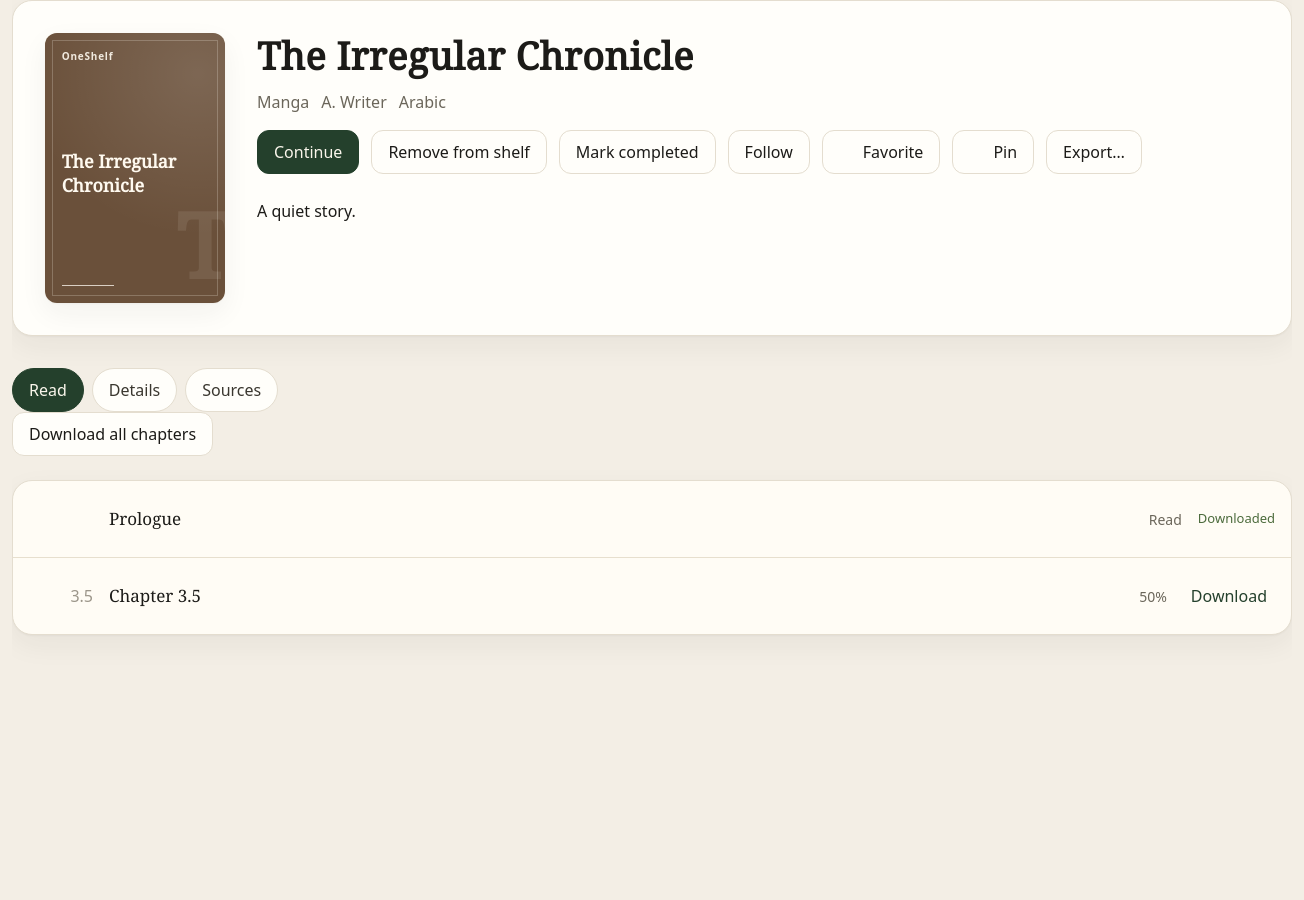
it: Work Details › keeps the bulk request state when switching tabs
The width and height of the screenshot is (1304, 900).
What coordinates should you click on to do the following:
click the button "Download all chapters"
I would click on:
 (113, 434)
Its box is [12, 412, 213, 456].
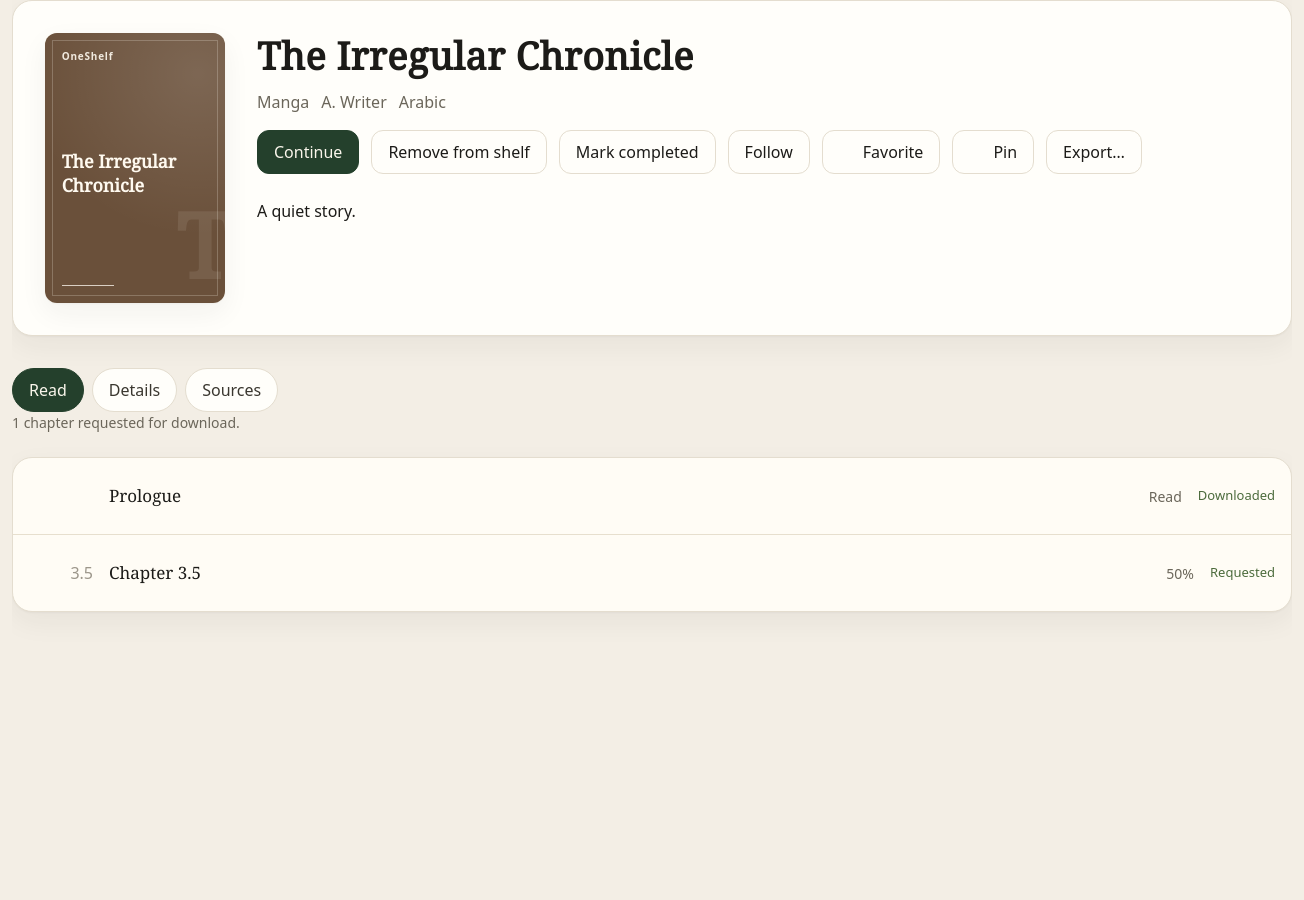
Now the text "1 chapter requested for download." is shown, box [12, 412, 240, 433]
What coordinates should you click on to do the following:
click the tab "Details"
I would click on:
 (134, 390)
Its box is [92, 368, 177, 412].
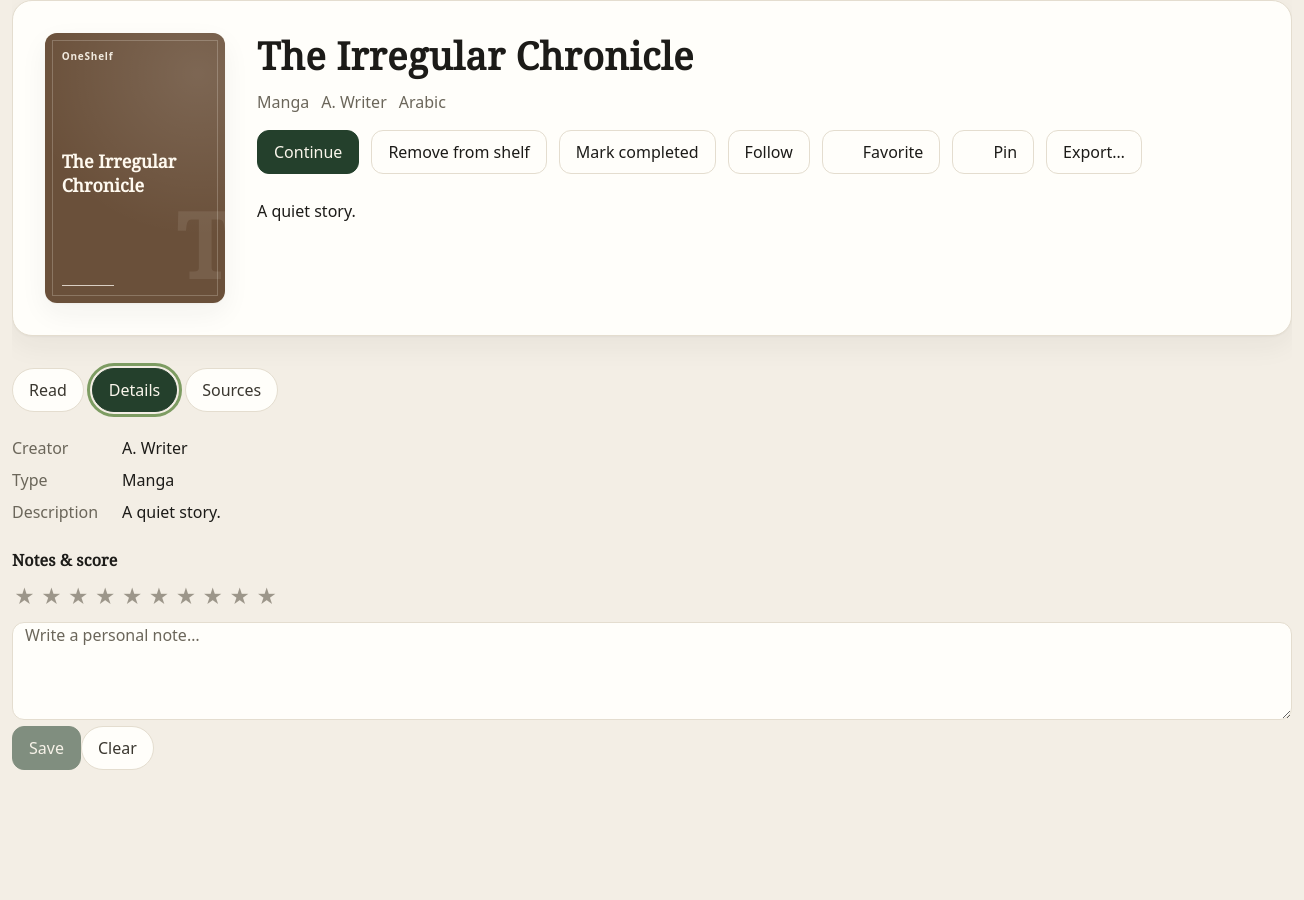
What coordinates should you click on to do the following:
click the tab "Read"
I would click on:
 (48, 390)
Its box is [12, 368, 84, 412].
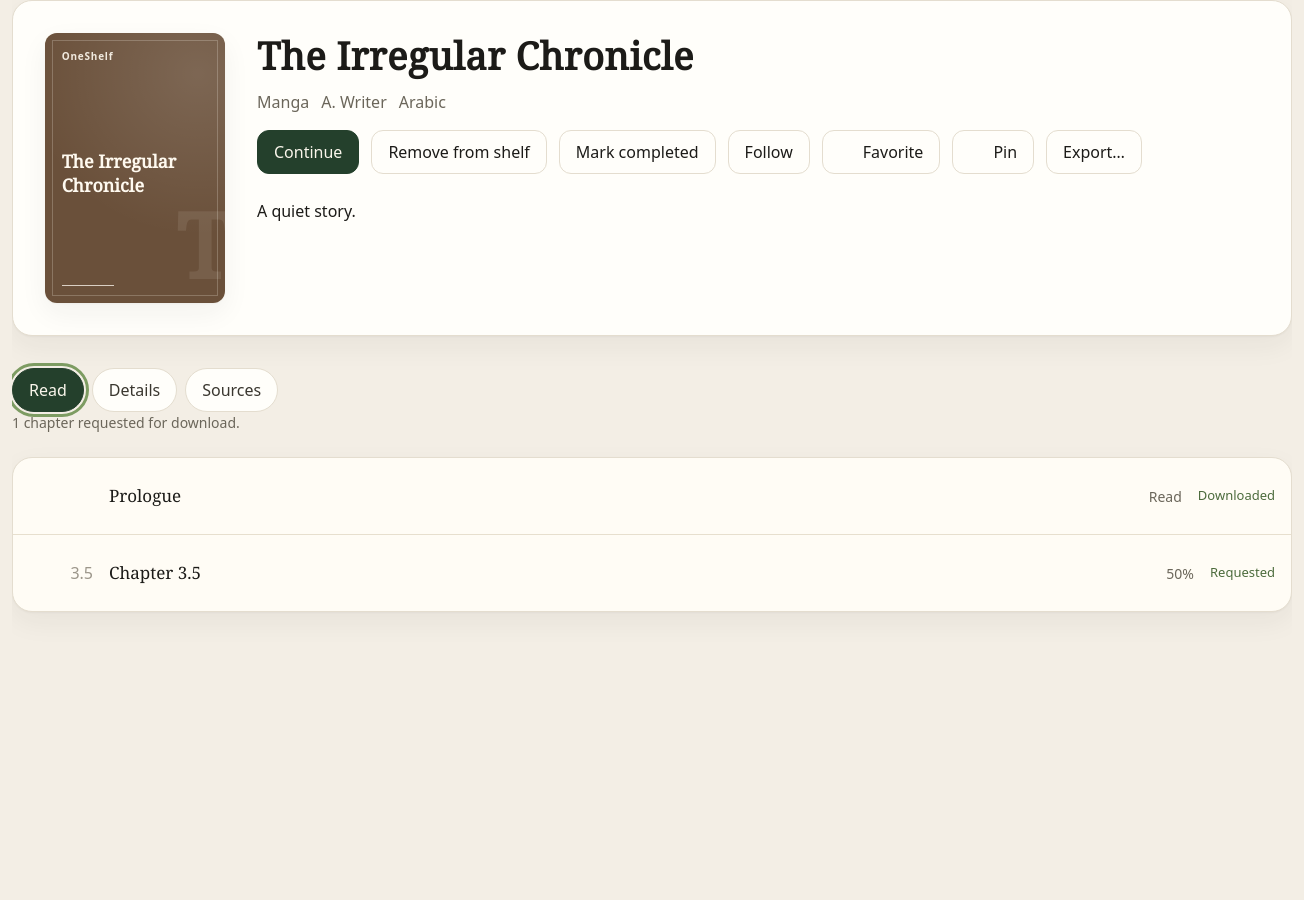
Expected: the button "Download all chapters" is not shown
Now the text "1 chapter requested for download." is shown, box [12, 412, 240, 433]
